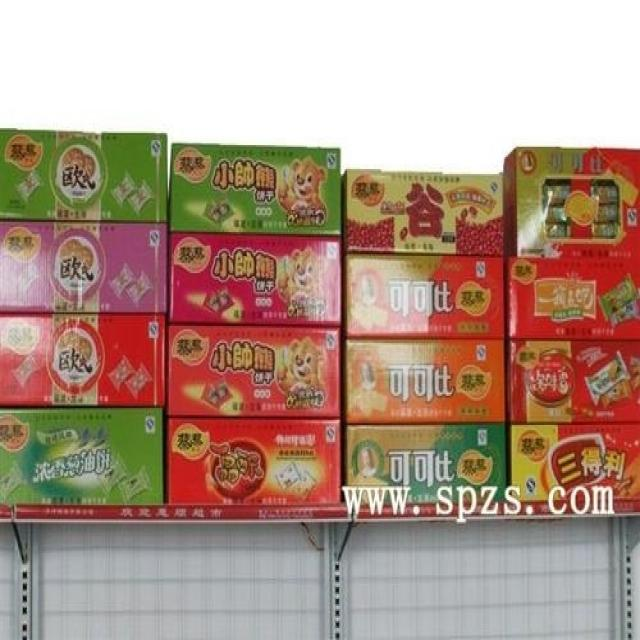box: (168, 232, 342, 326), (166, 326, 343, 418), (0, 408, 164, 505), (170, 143, 340, 236), (0, 220, 168, 314), (0, 312, 166, 406), (504, 145, 640, 258), (0, 128, 166, 220), (166, 418, 342, 503), (340, 169, 504, 256), (342, 340, 507, 423), (340, 256, 504, 338), (346, 423, 508, 503), (506, 422, 640, 514), (504, 256, 640, 340), (506, 338, 640, 423)
